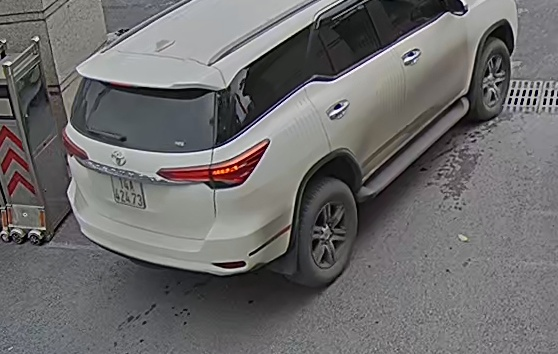vehicle plate: (106, 166, 148, 213)
